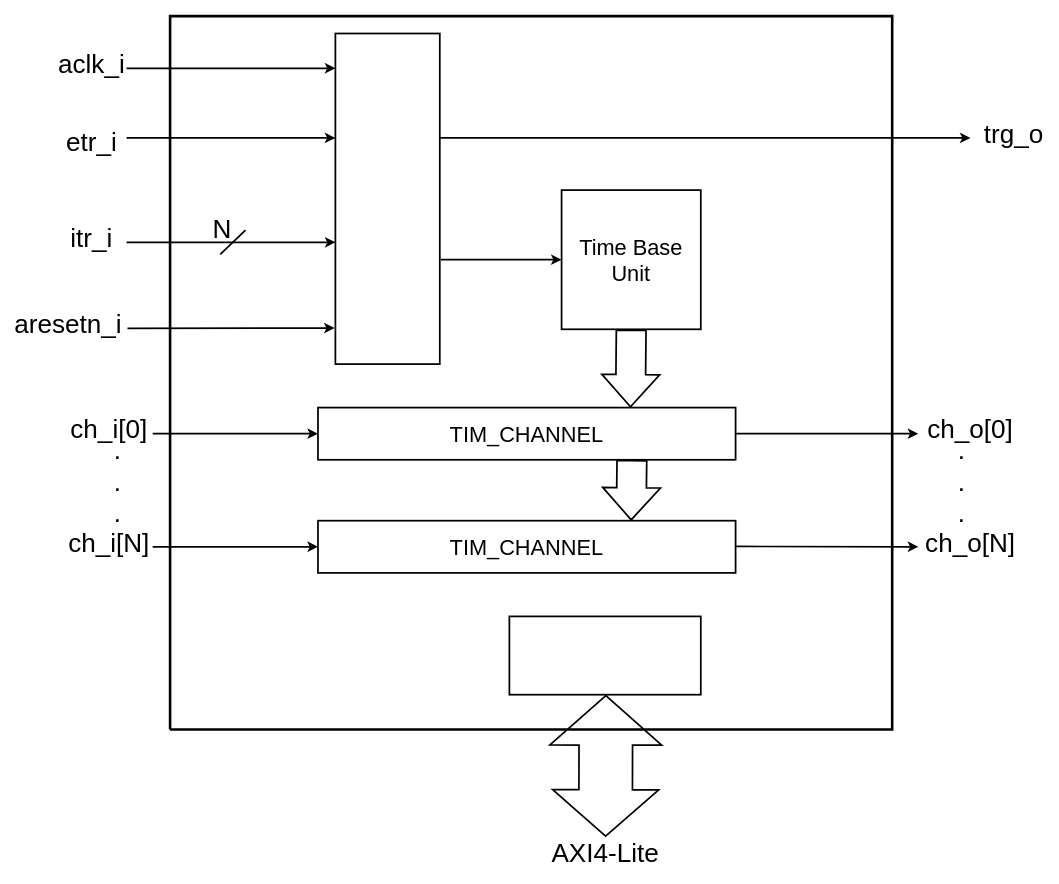
Image size: 1059x884. Some labels were removed from this diagram. Each missing label, with the centre of its shape:
"Reg Block" goes at [604,655].
"Trigger controller" goes at [387,198].
